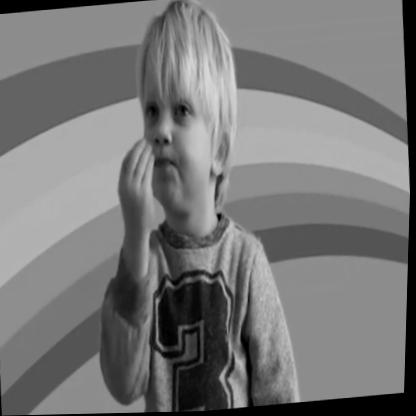Food: (100, 0, 246, 246)
